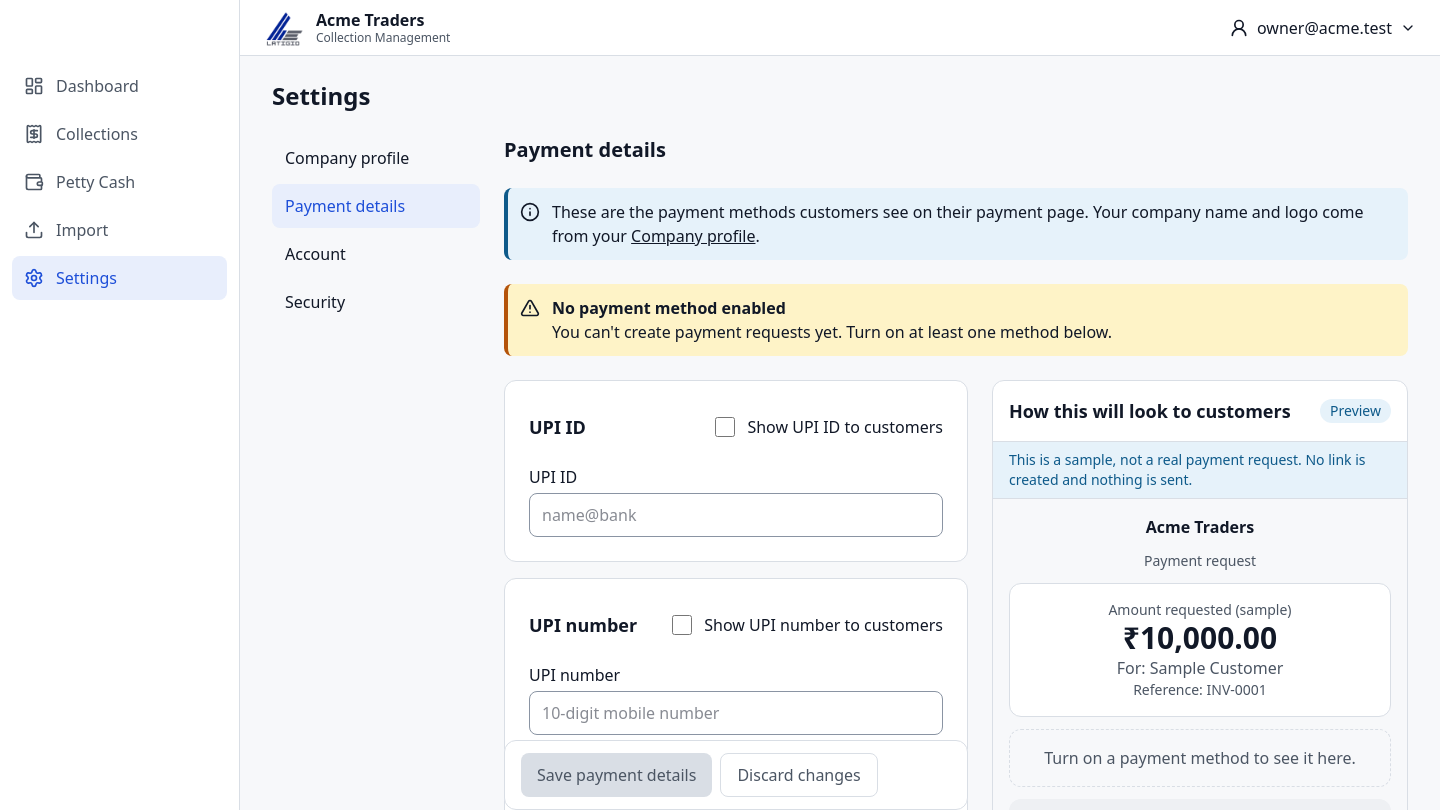
client-side validation › blocks an invalid UPI ID with an inline message and sends nothing
Type "not-a-upi-id" into the field labelled "UPI ID" at (736, 515), box [529, 493, 943, 537]
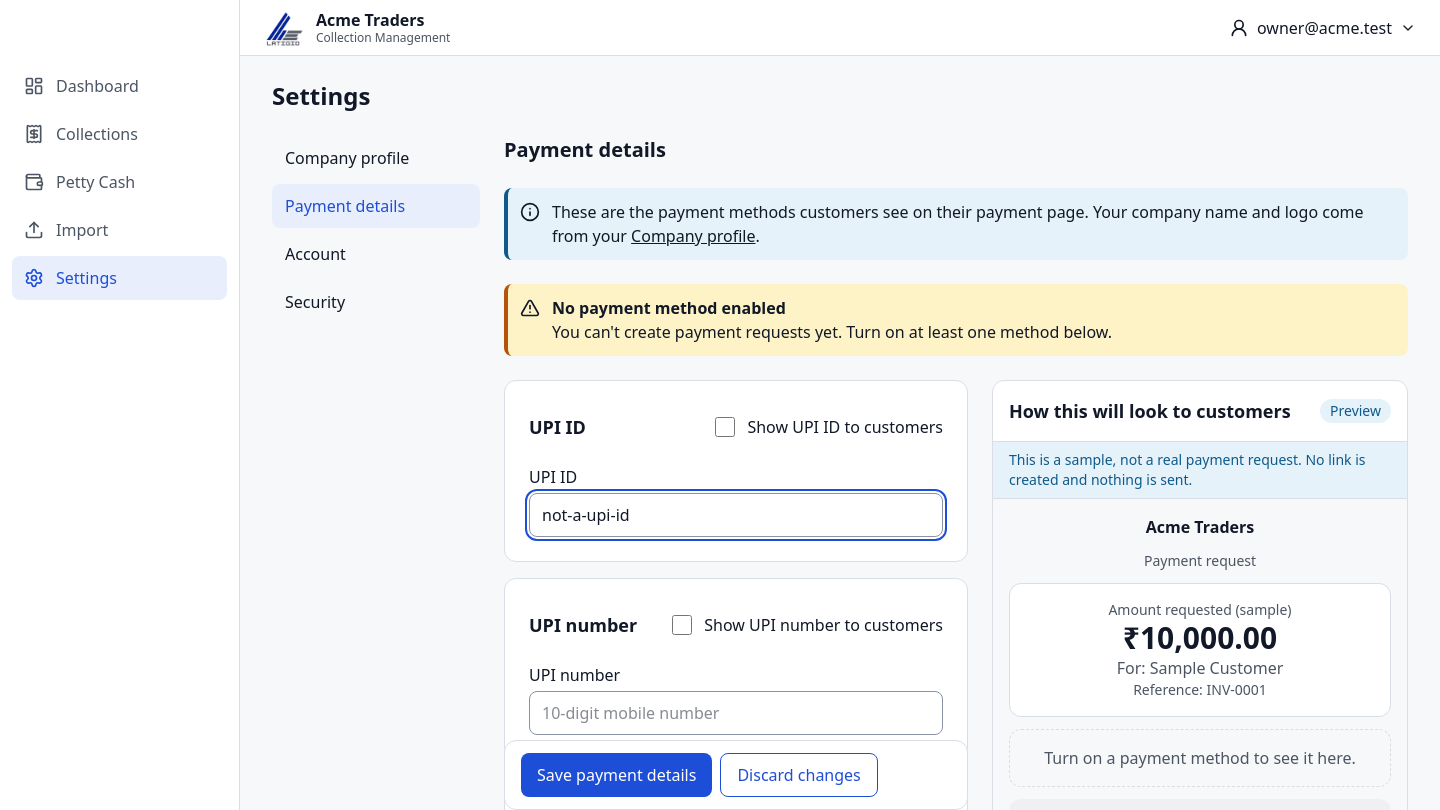
Click the button "Save payment details" at (617, 775), box [521, 753, 712, 797]
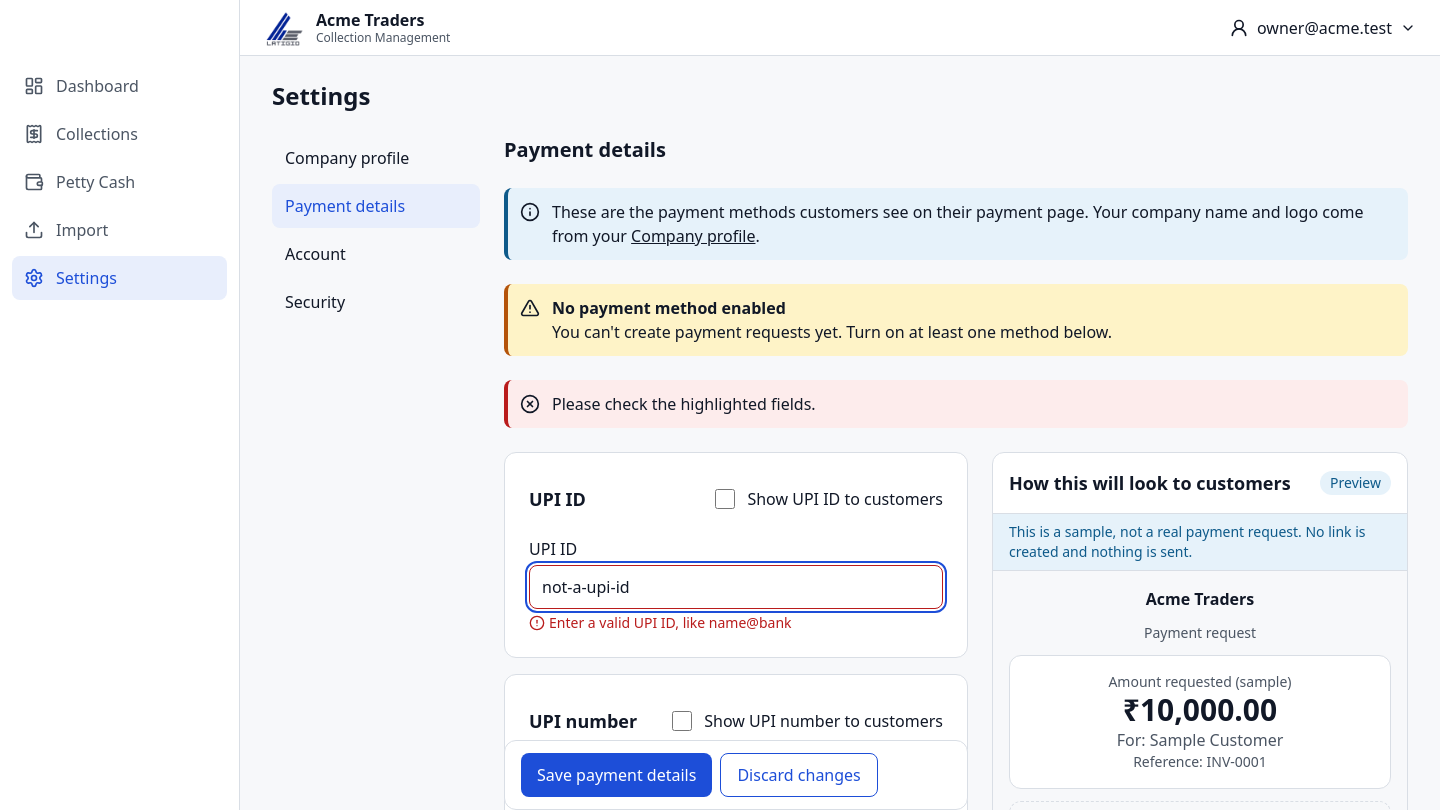
Expected: the text "Enter a valid UPI ID, like name@bank" is shown, [529, 613, 792, 632]
